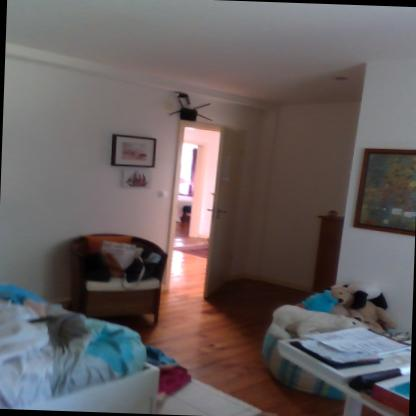semi: (170, 119, 265, 300)
